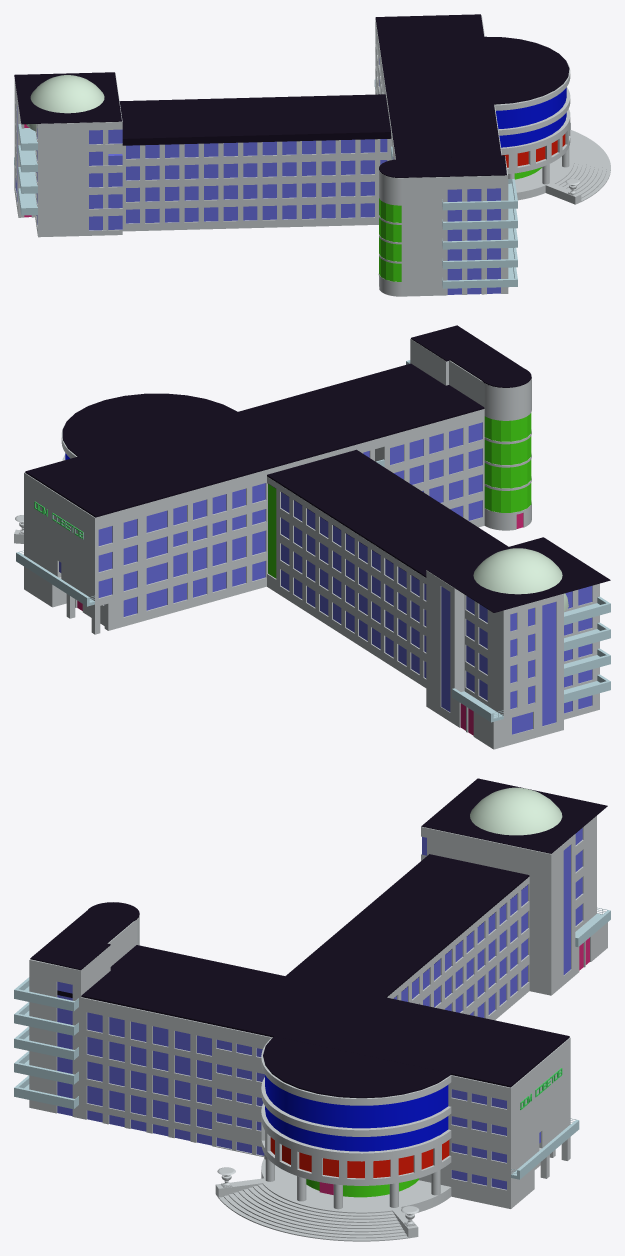
The model's file is sovet.glb.
The picture shows the model from 3 angles, top to bottom: view 1: azimuth 30°, elevation 25°; view 2: azimuth 150°, elevation 25°; view 3: azimuth 270°, elevation 25°; orthographic projection. The views are drawn at different scales.
Visible parts, largest first — view 1: ssovet; view 2: ssovet; view 3: ssovet.
Part boxes in pixels (box(x1,y1,x2,y2)): ssovet: box(14, 14, 610, 296); ssovet: box(14, 325, 610, 749); ssovet: box(14, 778, 610, 1241).
Bounding box in the file's own units: 375 × 89.81 × 294.
